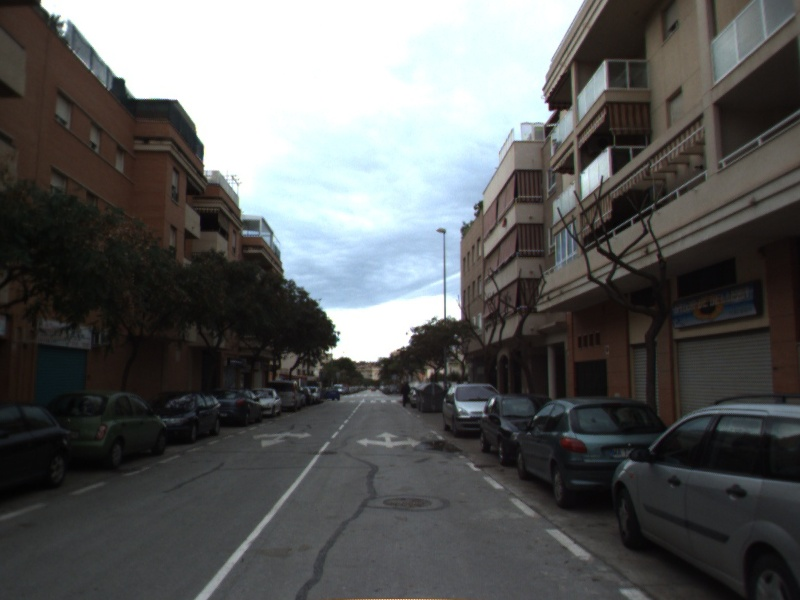STRAIGHT_LEFT_RIGHT: (354, 429, 423, 450)
